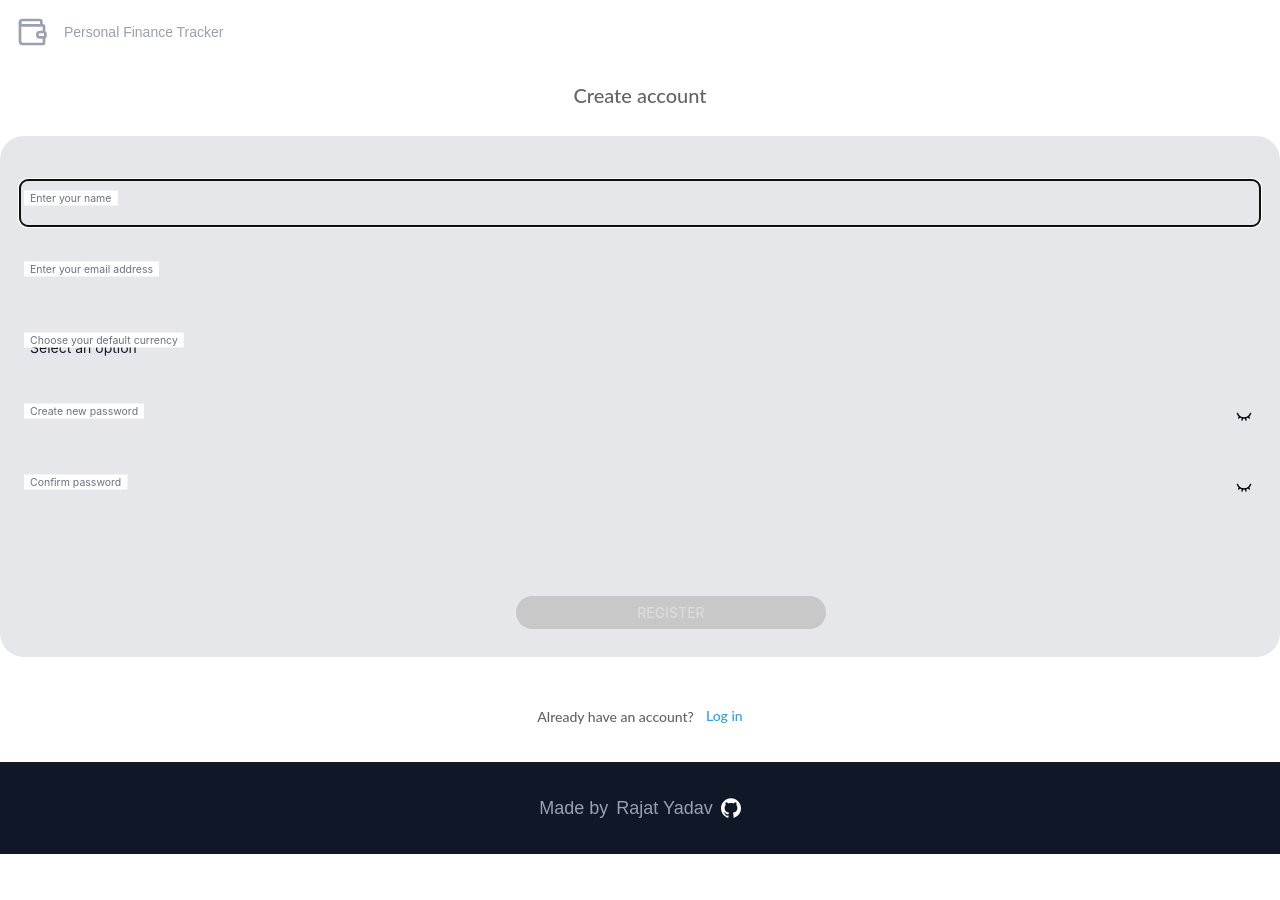
Test case: RegistrationPage page › handles API errors gracefully
Type "Test User" into the field labelled "Enter your name" at (640, 203), box [20, 180, 1260, 226]
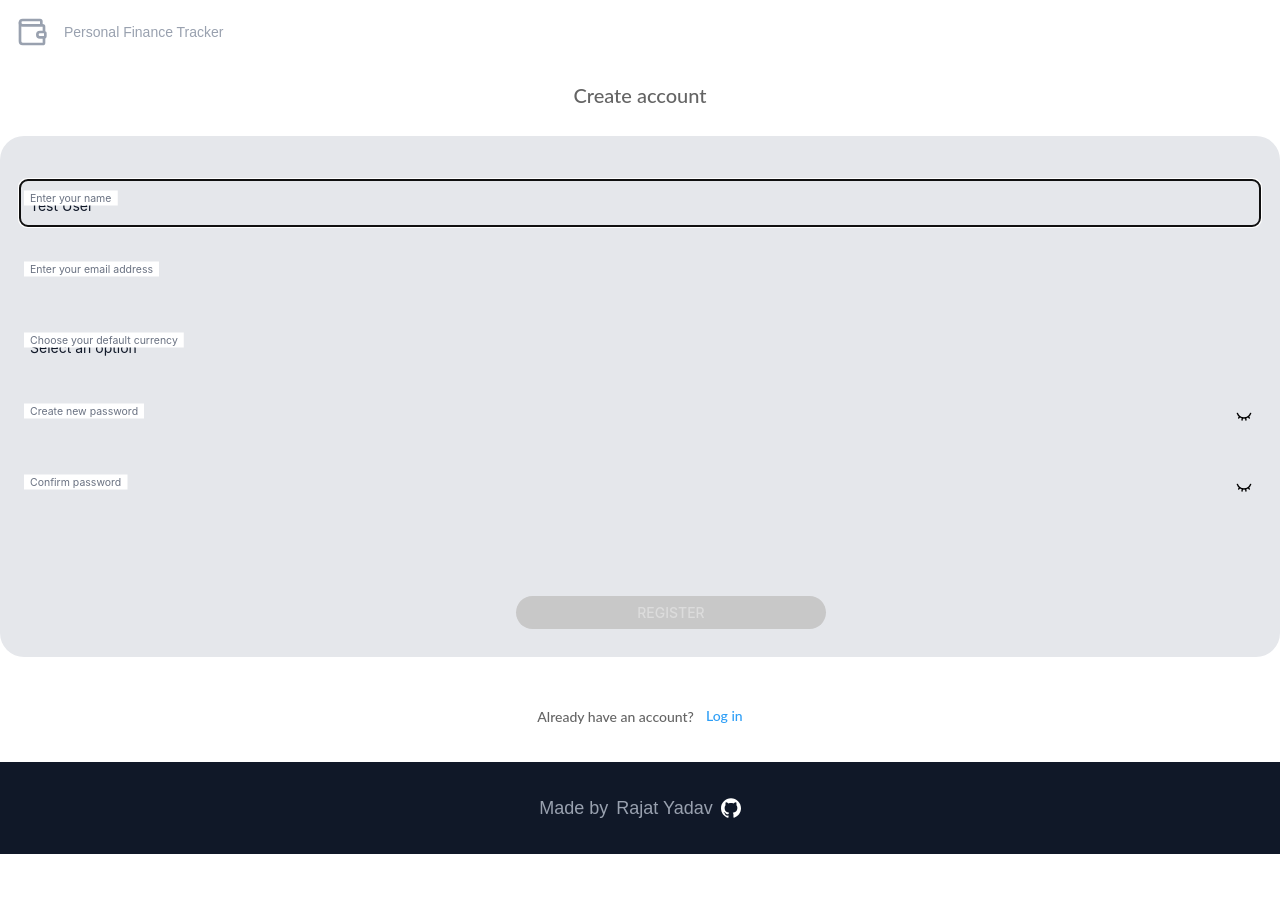
Type "testuser@example.com" into the field labelled "Enter your email address" at (640, 274), box [20, 251, 1260, 297]
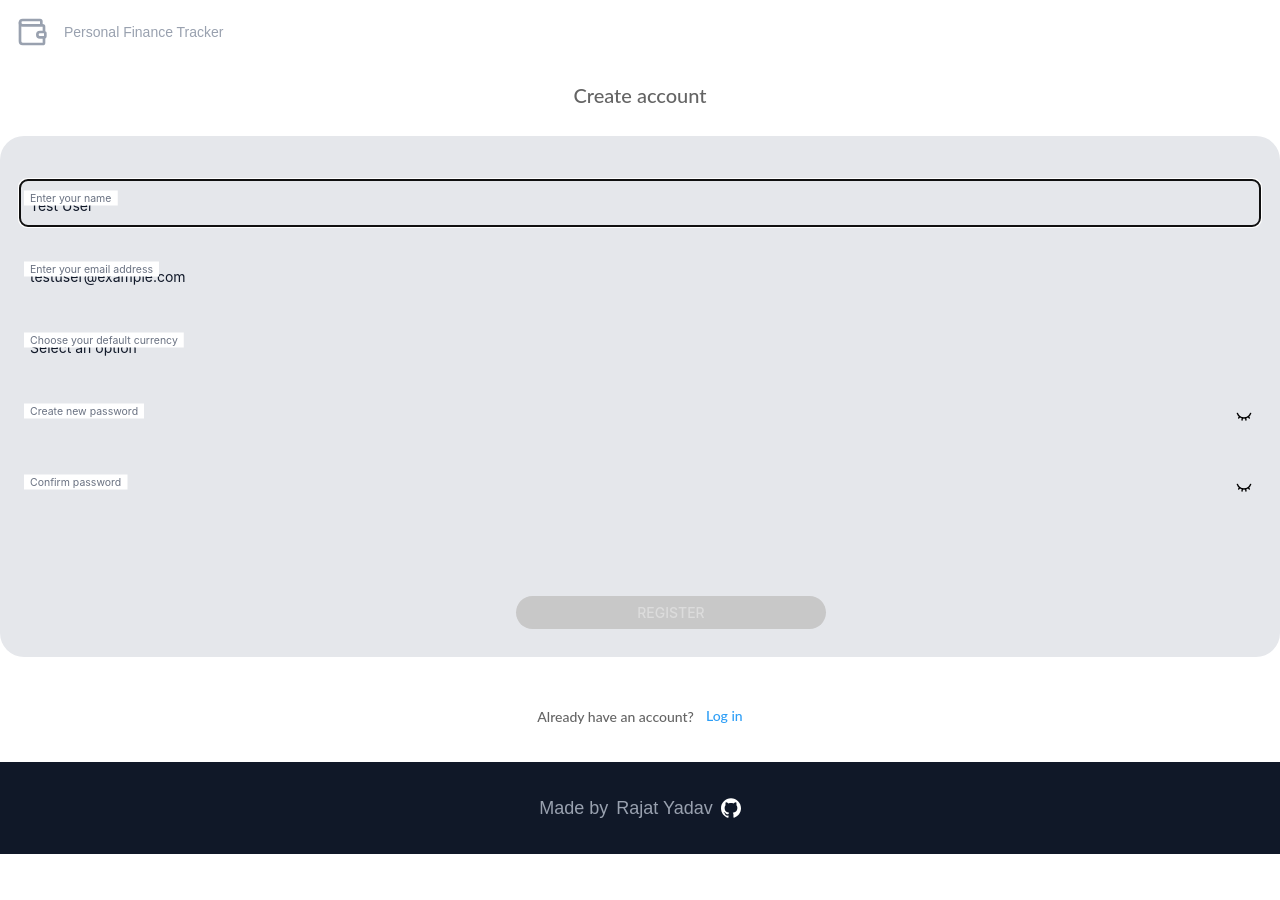
Select "USD - United States Dollar" in the dropdown labelled "Choose your default currency" at (640, 345), box [20, 322, 1260, 368]
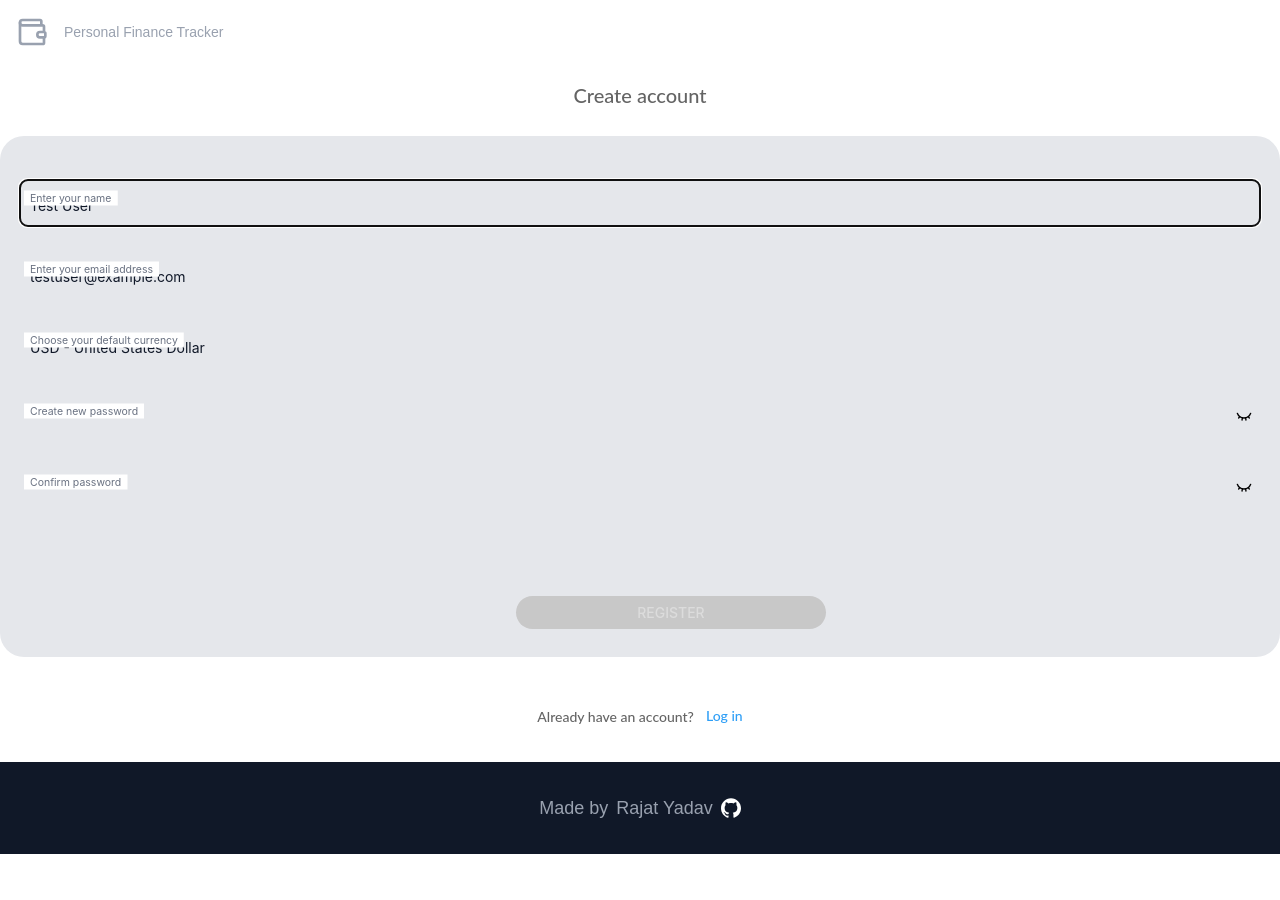
Type "Password.123" into the password field labelled "Create new password" at (640, 416), box [20, 393, 1260, 439]
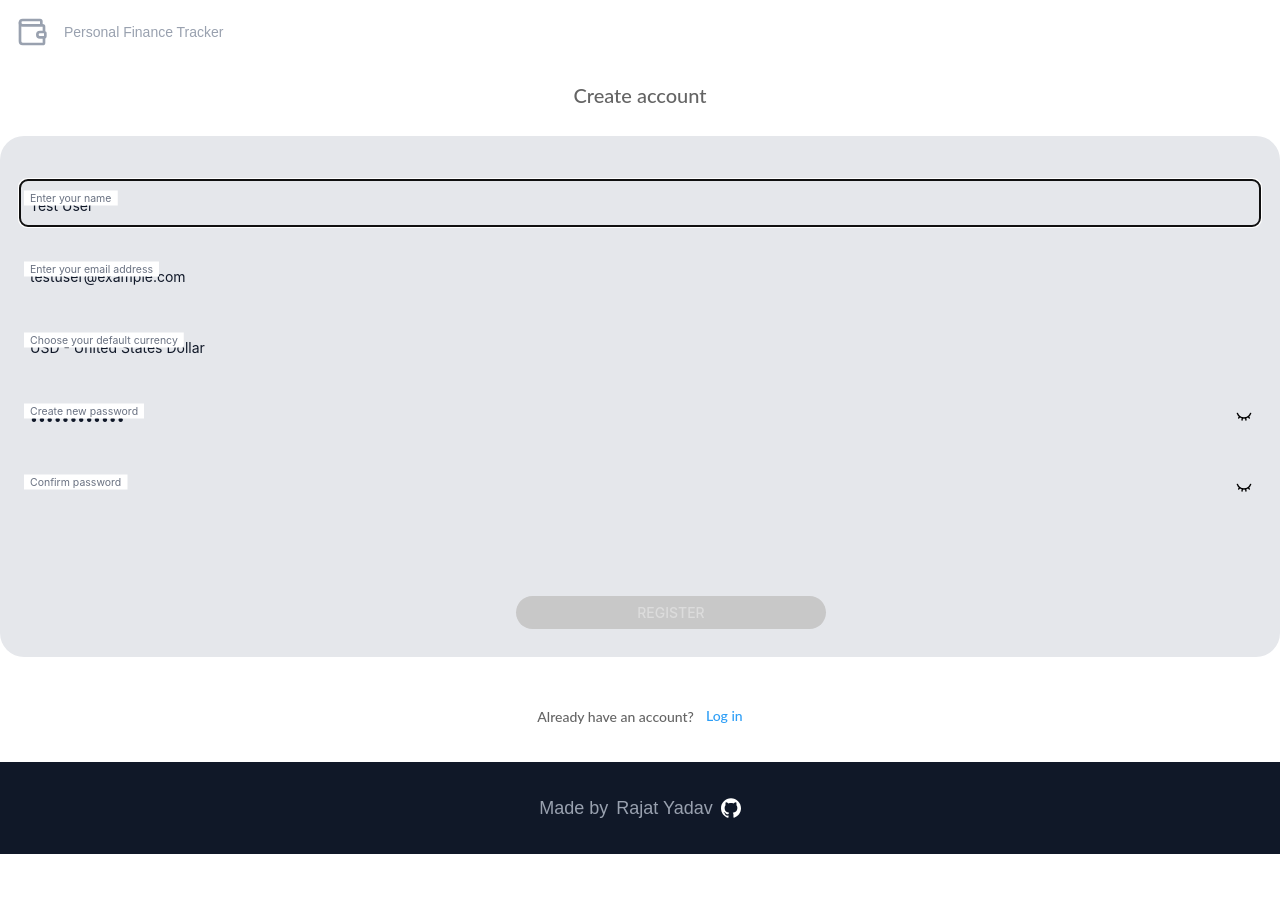
Type "Password.123" into the password field labelled "Confirm password" at (640, 487), box [20, 464, 1260, 510]
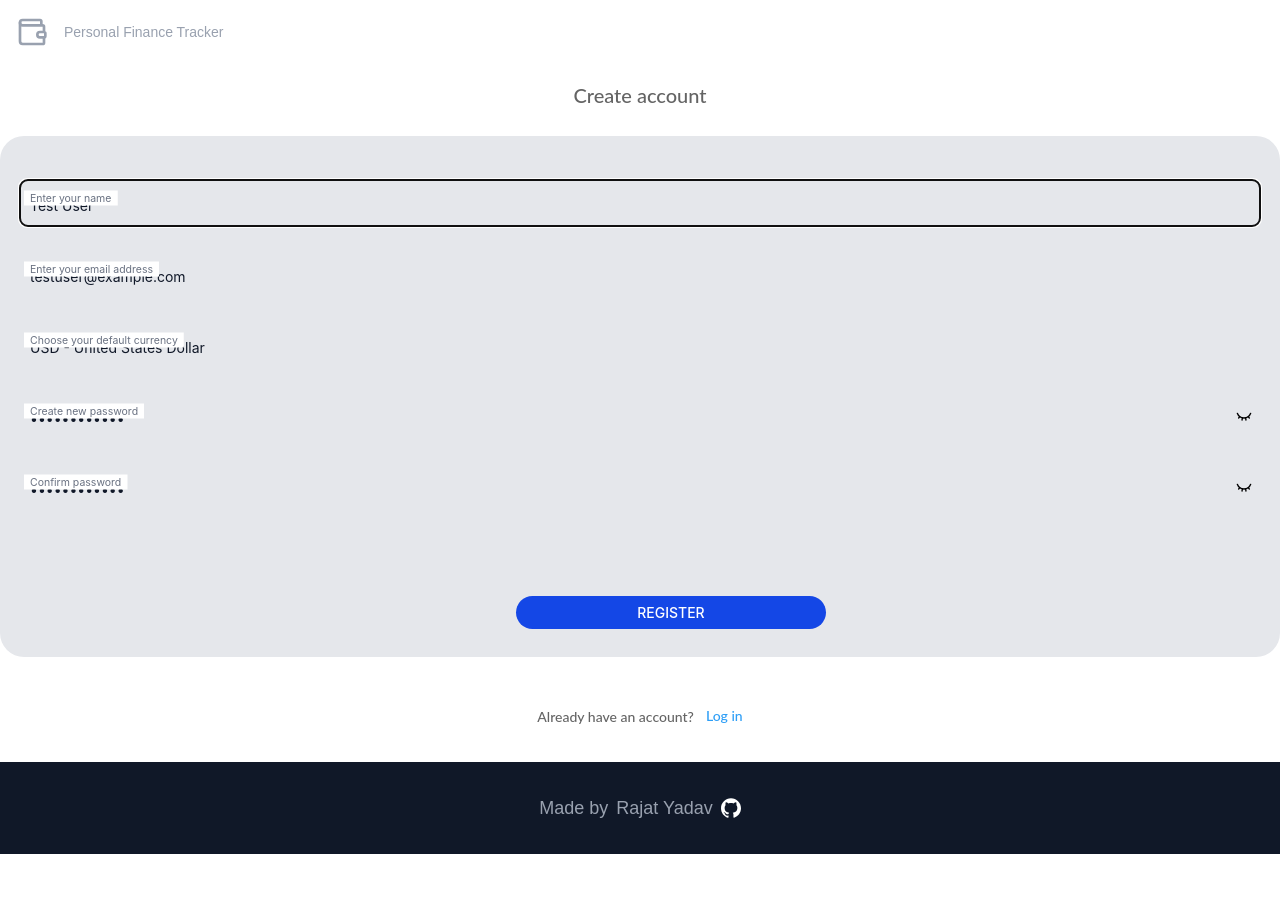
Click the button "REGISTER" at (671, 613), box [516, 596, 826, 629]
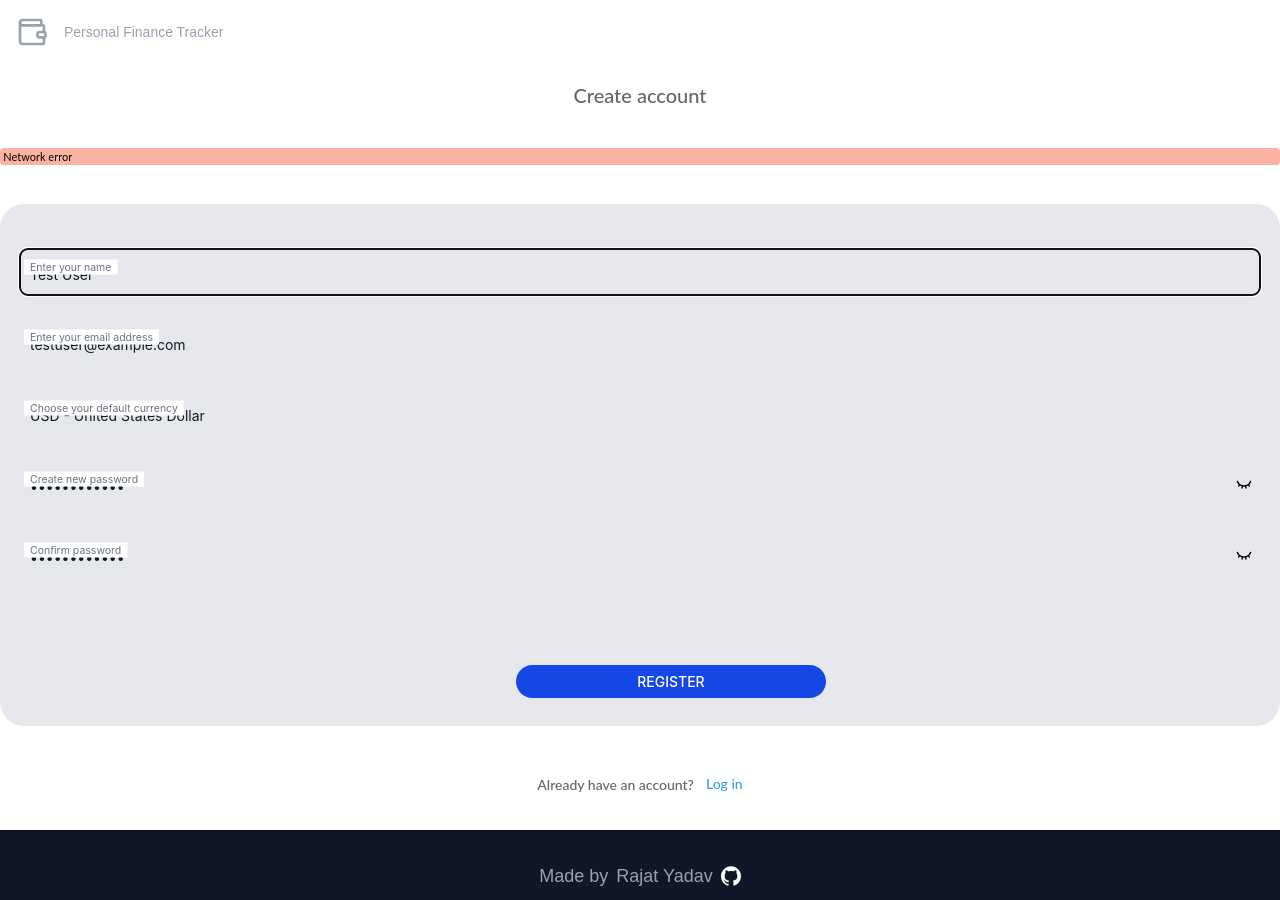
Now the text "Network error" is shown, box [0, 148, 1279, 165]
